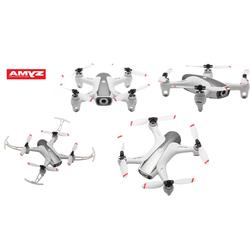drone: (112, 113, 215, 197), (3, 116, 98, 187), (60, 61, 156, 113), (160, 60, 250, 112)
